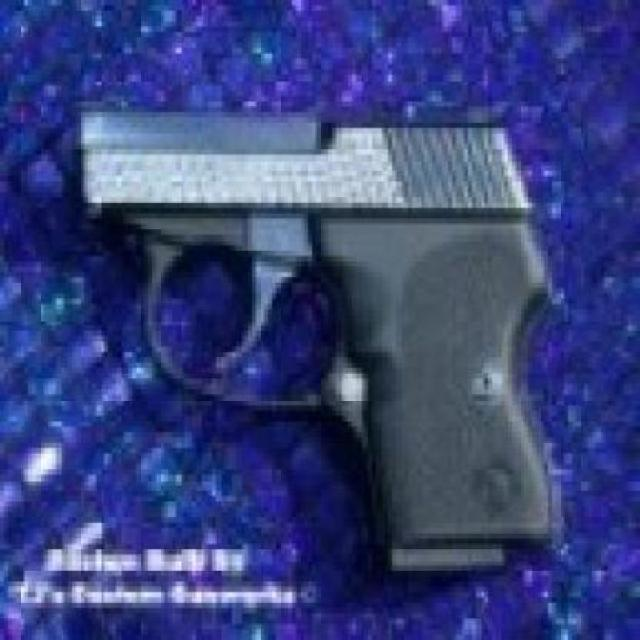gun: (68, 95, 564, 571)
